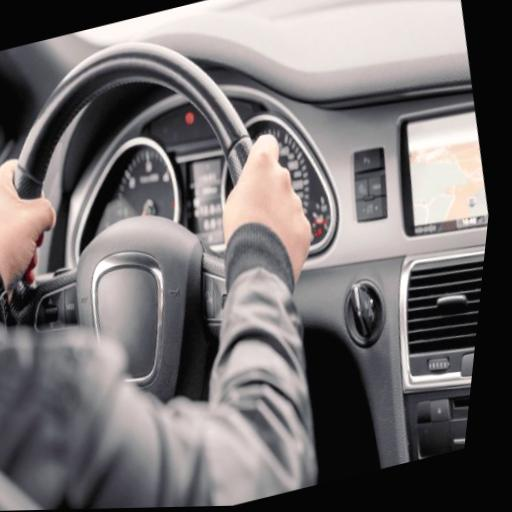Hands-on-the-Wheel: (179, 107, 347, 319), (0, 122, 89, 313)
